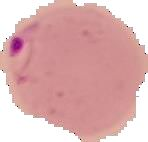parasitized: (3, 20, 54, 85)
